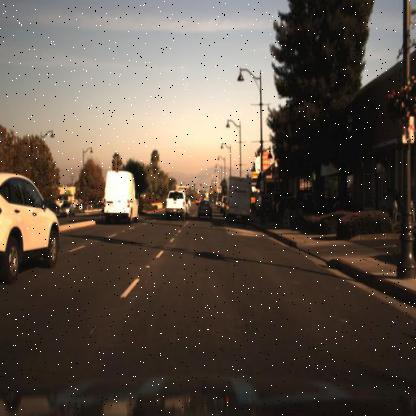car: (1, 167, 65, 285), (96, 161, 145, 231), (222, 169, 256, 226), (164, 190, 191, 221), (196, 199, 217, 220)
truck: (102, 168, 146, 226), (222, 172, 256, 222)
